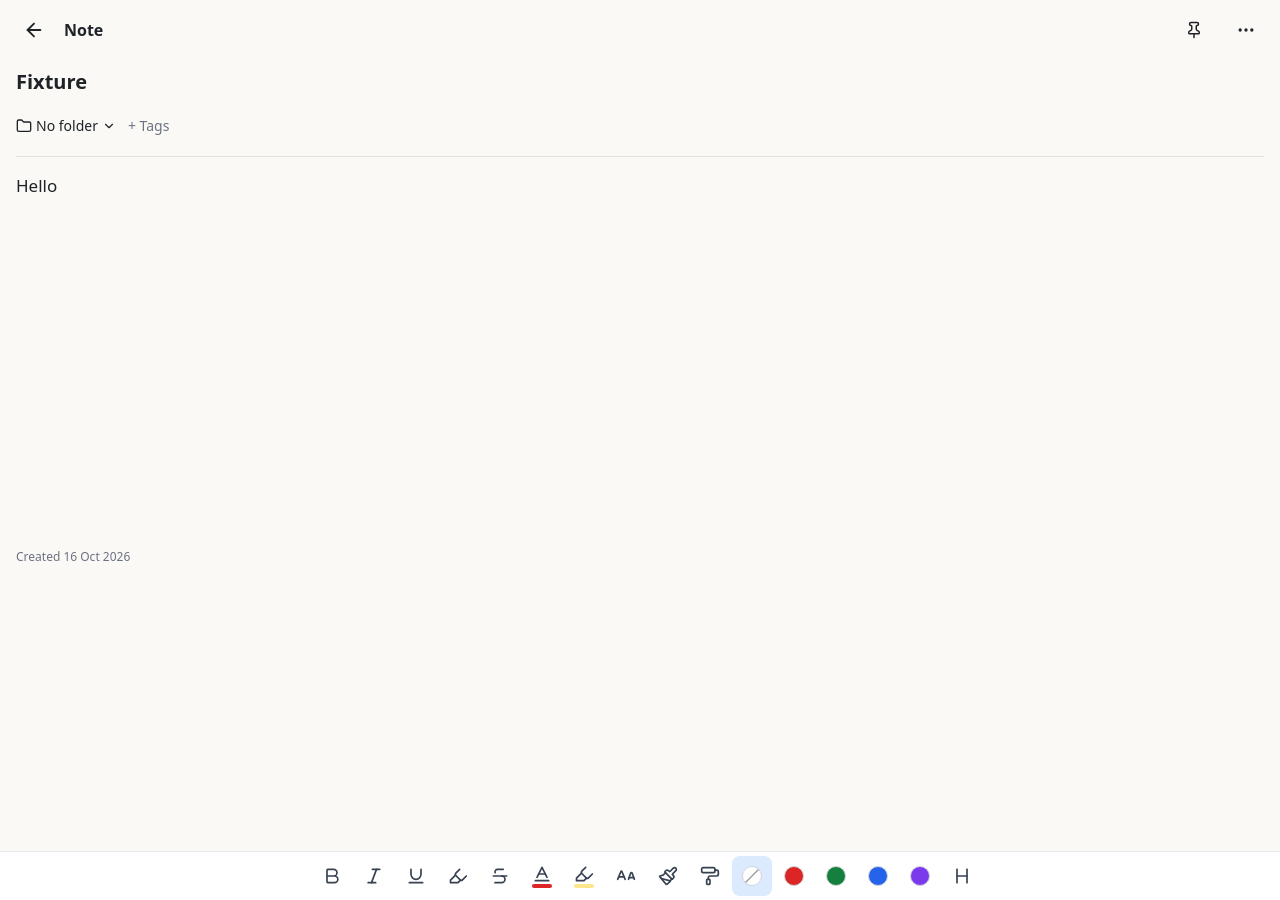
it: copies freshly saved title and held editor input via the clipboard, without preferences
Replace the text in the field named "Title" with "Fresh title" at (640, 82), box [16, 60, 1264, 104]
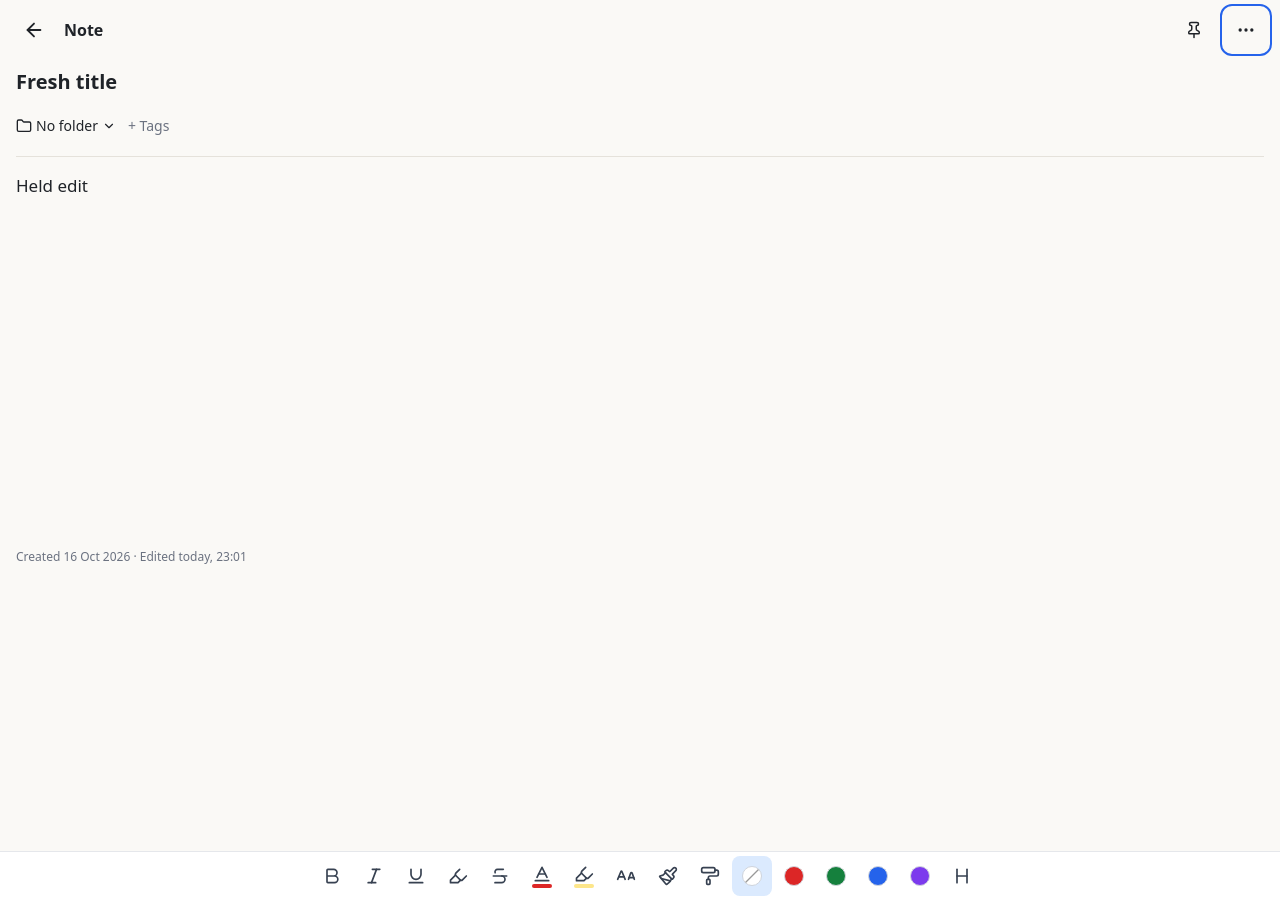
Click the button named "Note options" at (1246, 30), box [1224, 8, 1268, 52]
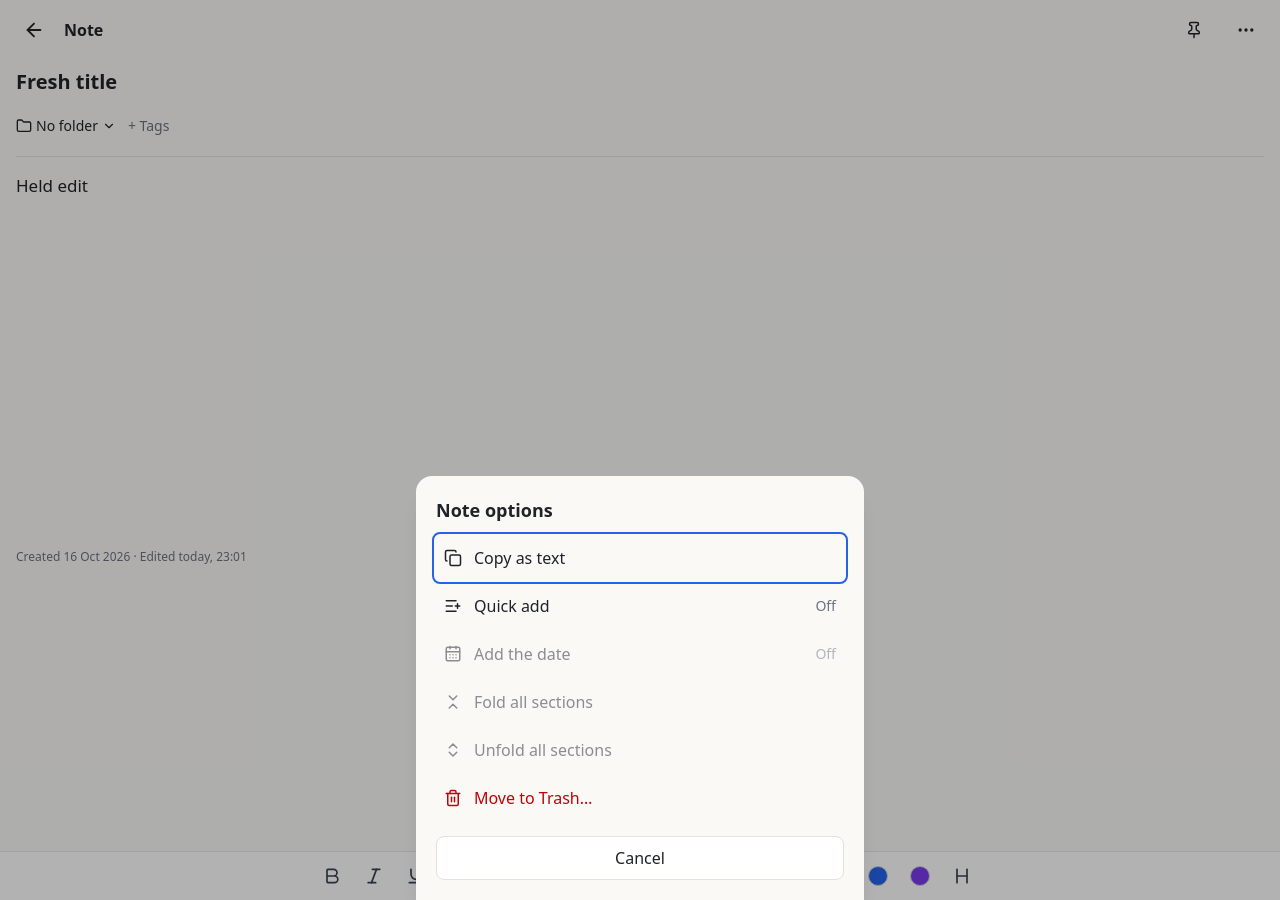
Click the button "Copy as text" at (520, 558), box [436, 536, 844, 580]
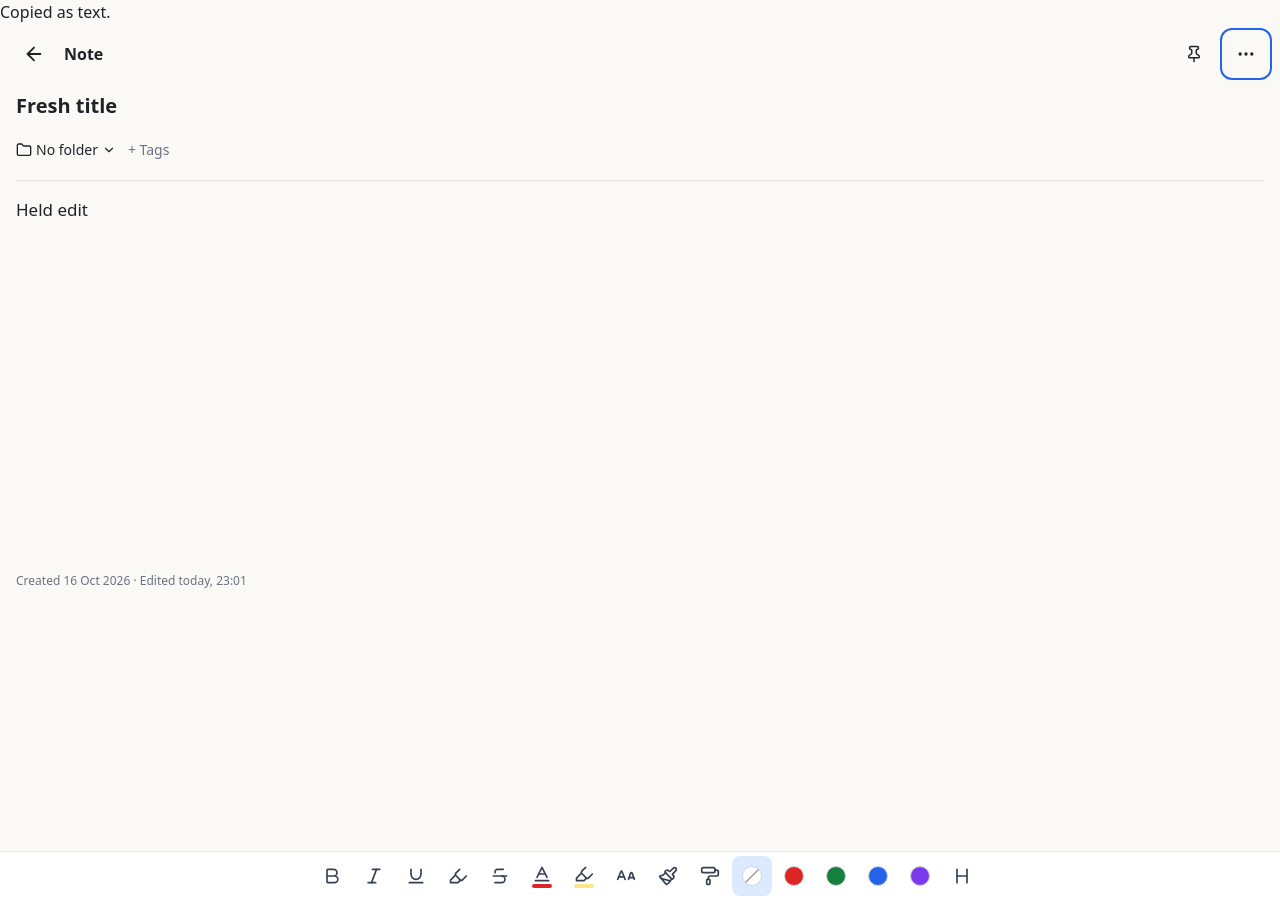
Expected: the text "Copied as text." is shown, [0, 1, 111, 23]
Expected: the dialog is gone
